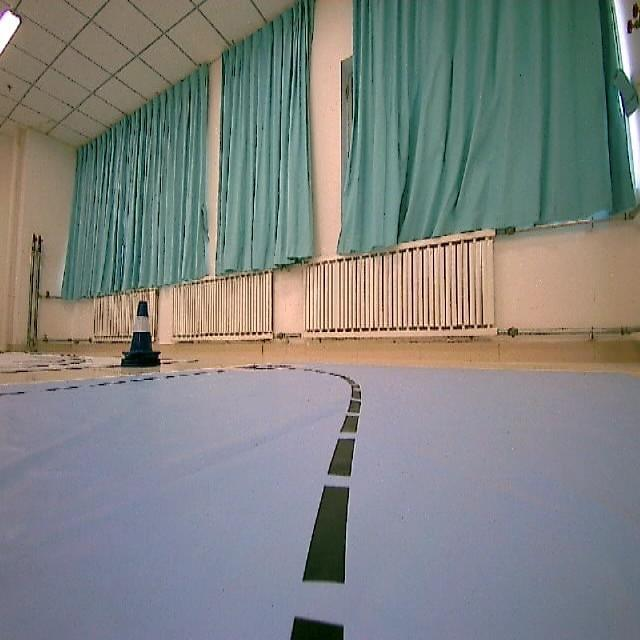obstacle: (113, 295, 166, 375)
